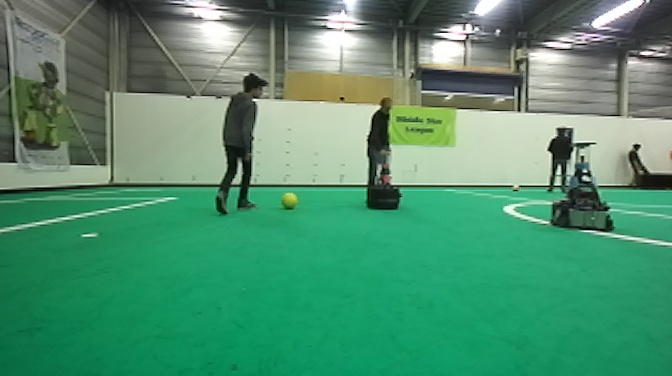ball: (279, 190, 300, 210), (509, 182, 521, 193)
human: (212, 71, 269, 215), (364, 95, 394, 203), (547, 126, 575, 193), (625, 138, 652, 187)
robot: (549, 140, 616, 233), (365, 150, 404, 210)
